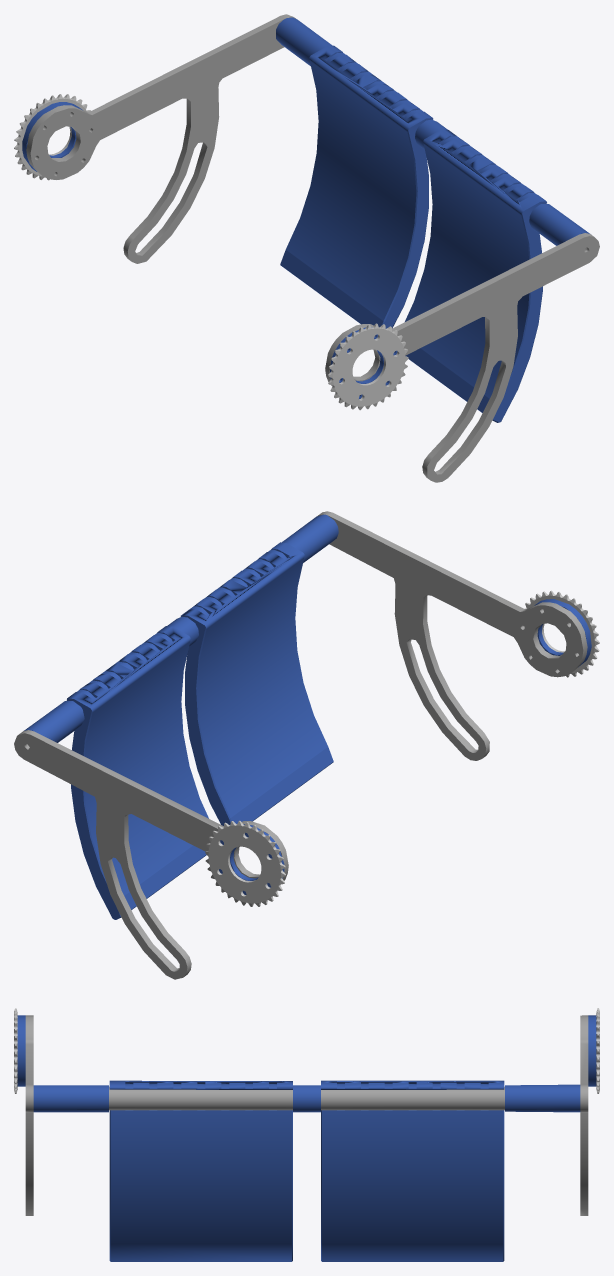
Rendered from 7769-hood.glb.
3 renders of one model, top to bottom at view 1: azimuth 30°, elevation 25°; view 2: azimuth 150°, elevation 25°; view 3: azimuth 270°, elevation 25°, orthographic. The views are drawn at different scales.
Visible parts, largest first — view 1: Moving Hood Spacer 2, Hood Plate, 32t Aluminum Plate Sprocket (#25, 1.125" Round Bore); view 2: Moving Hood Spacer 2, Hood Plate, 32t Aluminum Plate Sprocket (#25, 1.125" Round Bore); view 3: Moving Hood Spacer 2, Hood Plate, 32t Aluminum Plate Sprocket (#25, 1.125" Round Bore).
Part boxes in pixels (x1,y1,x2,y2): Moving Hood Spacer 2: (22,17,589,422); Hood Plate: (26,14,599,482); 32t Aluminum Plate Sprocket (#25, 1.125" Round Bore): (14,94,408,410); Moving Hood Spacer 2: (24,514,591,919); Hood Plate: (14,511,587,979); 32t Aluminum Plate Sprocket (#25, 1.125" Round Bore): (205,590,599,906); Moving Hood Spacer 2: (17,1015,596,1261); Hood Plate: (25,1015,588,1215); 32t Aluminum Plate Sprocket (#25, 1.125" Round Bore): (14,1008,599,1093).
Size of the model in its own units: 0.2363 by 0.1729 by 0.4663.
